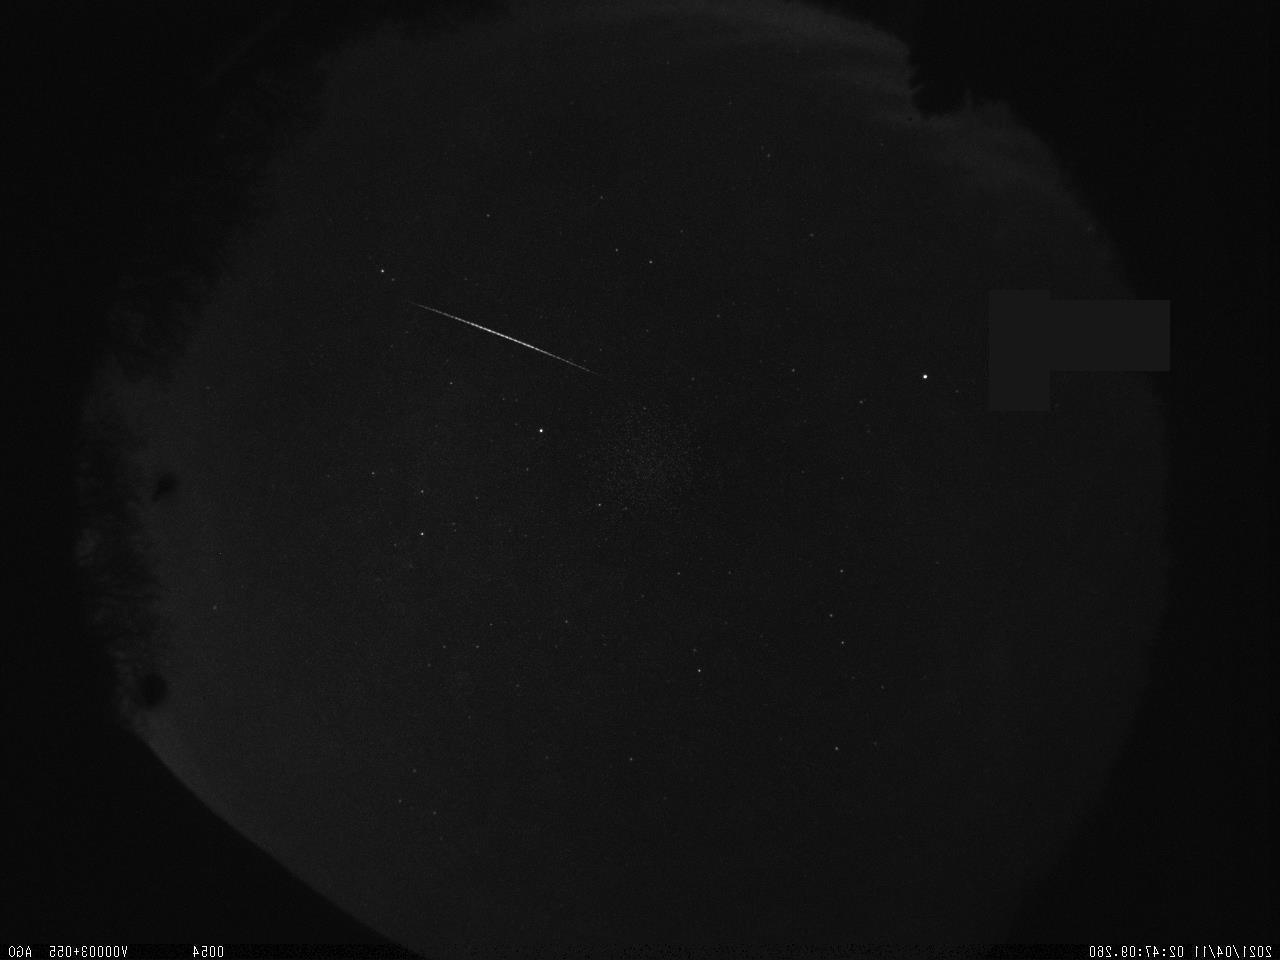meteor: (375, 264, 648, 391)
